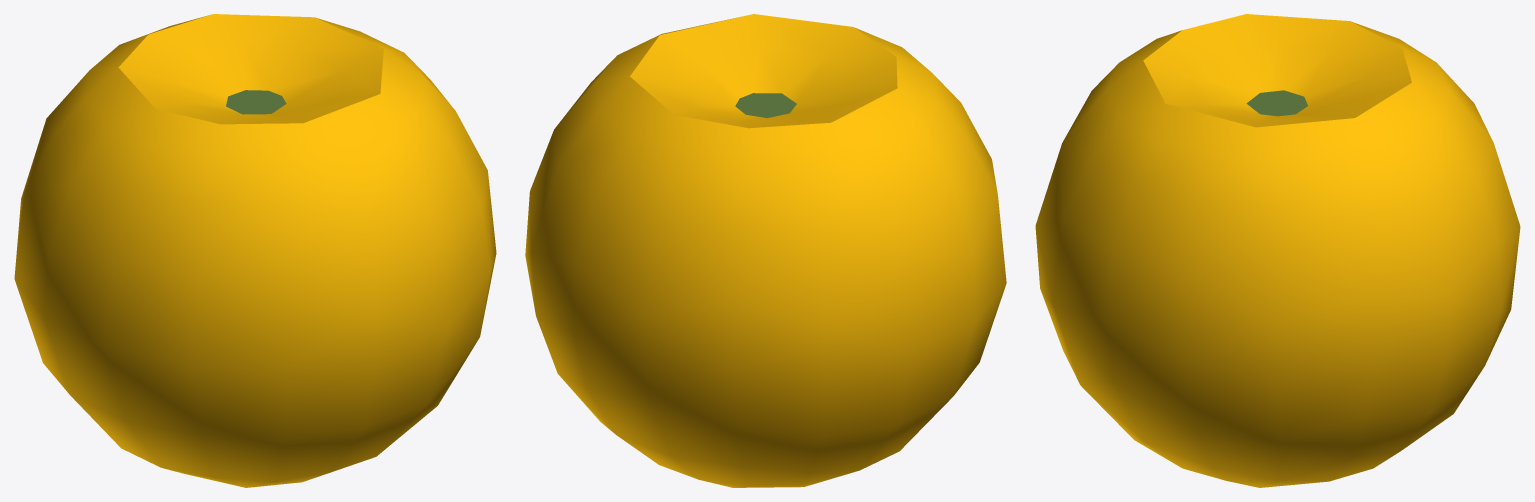
Rendered from orange.fbx.
3 views of the same model, side by side, from view 1: azimuth 30°, elevation 25°; view 2: azimuth 150°, elevation 25°; view 3: azimuth 270°, elevation 25° (orthographic).
Visible parts, largest first — view 1: apple.001; view 2: apple.001; view 3: apple.001.
Boxes of the visible parts, bbox=[...] form: apple.001: bbox=[14, 14, 496, 487]; apple.001: bbox=[525, 14, 1006, 487]; apple.001: bbox=[1035, 14, 1520, 487].
Size of the model in its own units: 751 by 676 by 752.
